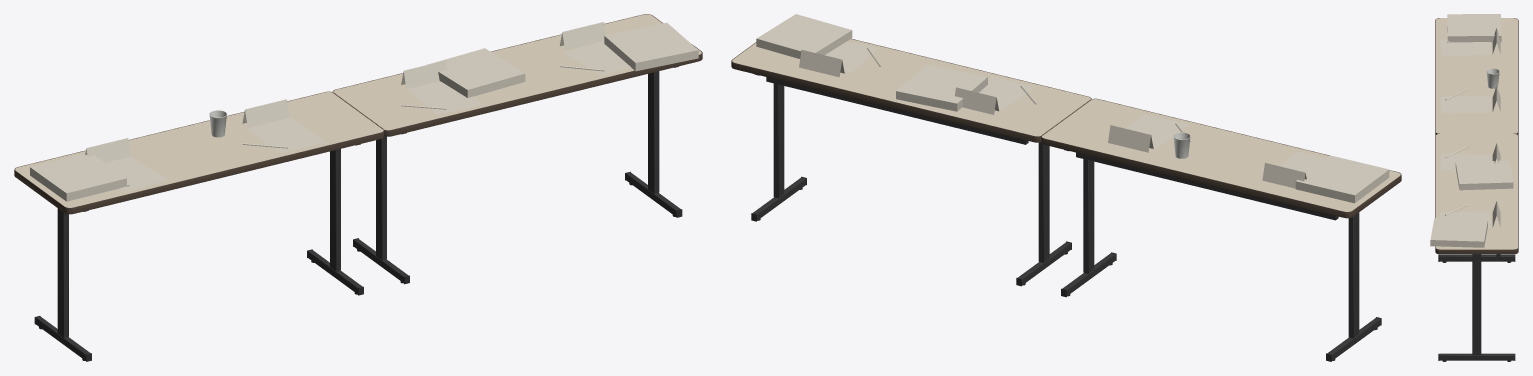
File: Kit_TrainingTable_Row2_Handouts.fbx
The picture shows the model from 3 angles, left to right: view 1: azimuth 30°, elevation 25°; view 2: azimuth 150°, elevation 25°; view 3: azimuth 270°, elevation 25°; orthographic projection. The views are drawn at different scales.
Visible parts, largest first — view 1: Kit_TrainingTable_Row2_Handouts_LOD0; view 2: Kit_TrainingTable_Row2_Handouts_LOD0; view 3: Kit_TrainingTable_Row2_Handouts_LOD0.
Boxes of the visible parts, <box> form: Kit_TrainingTable_Row2_Handouts_LOD0: <box>14,14,702,361</box>; Kit_TrainingTable_Row2_Handouts_LOD0: <box>731,14,1401,361</box>; Kit_TrainingTable_Row2_Handouts_LOD0: <box>1430,14,1518,361</box>.
Size of what is drawn, in the model's own units: 3.05 by 0.831 by 0.4899.
